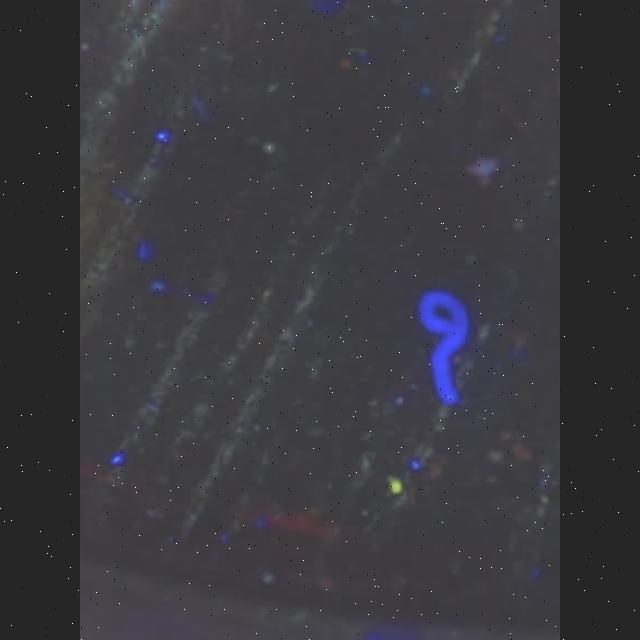microbeads: (386, 477, 404, 499)
